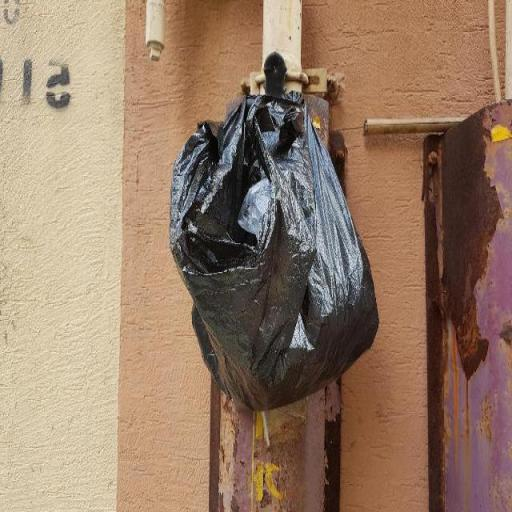plastic-bag: (166, 85, 383, 417)
